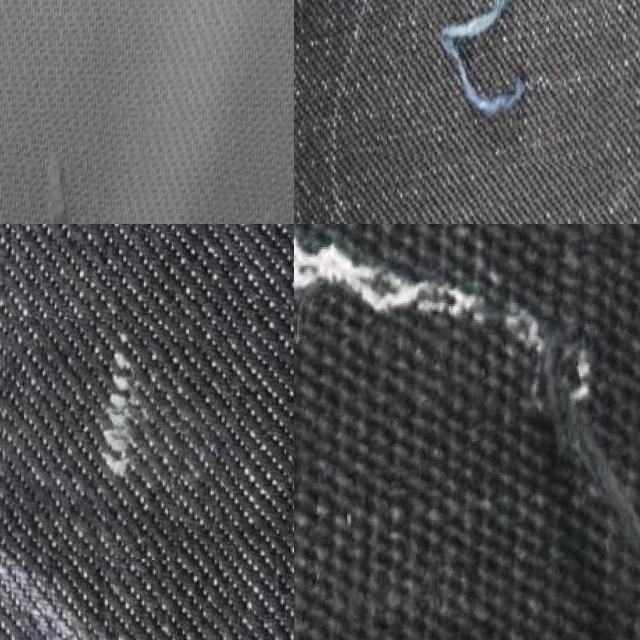Thread_other: (294, 224, 640, 640), (0, 318, 186, 558), (382, 0, 610, 165), (5, 114, 294, 224)
